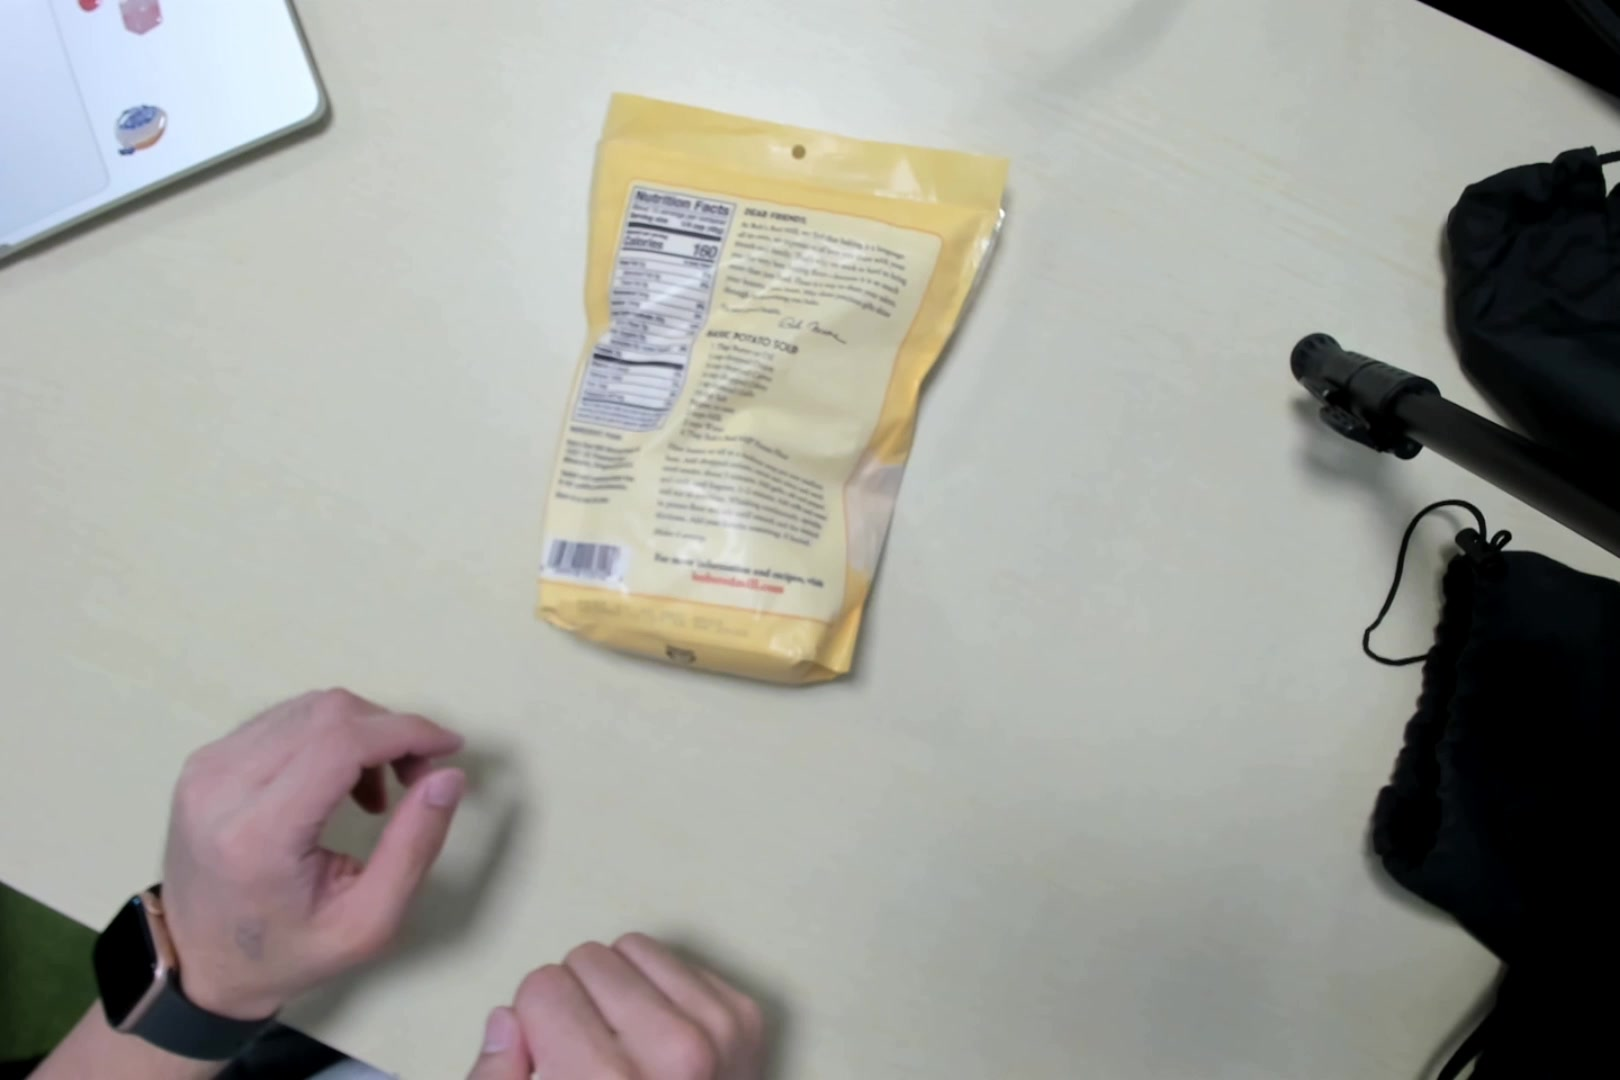OtherBakingNeeds_600-699g_NonHalal_NonHealthy: (538, 94, 1014, 686)
